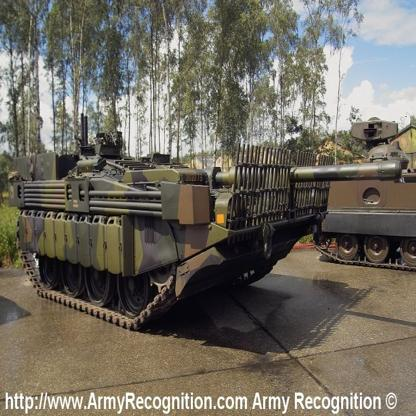Tank: (8, 132, 339, 352)
